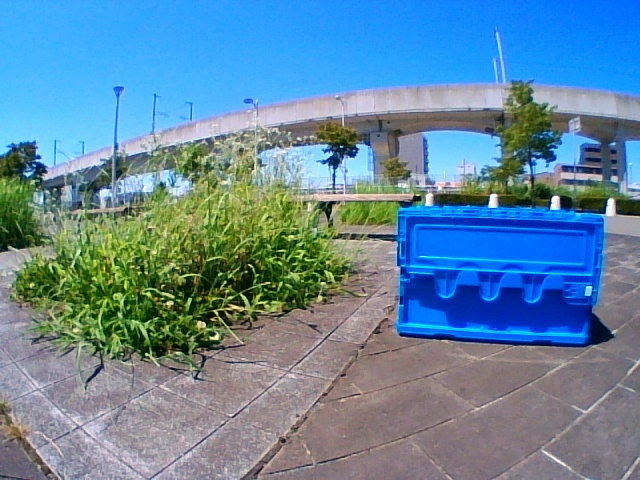blue_box: (400, 209, 586, 334)
